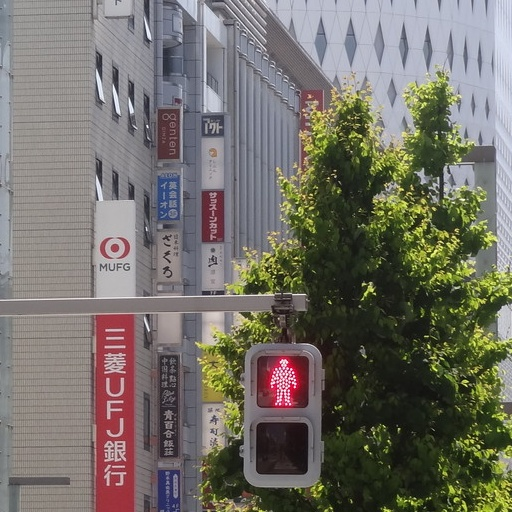Pedestrian_Signal_Red: (240, 337, 320, 487)
